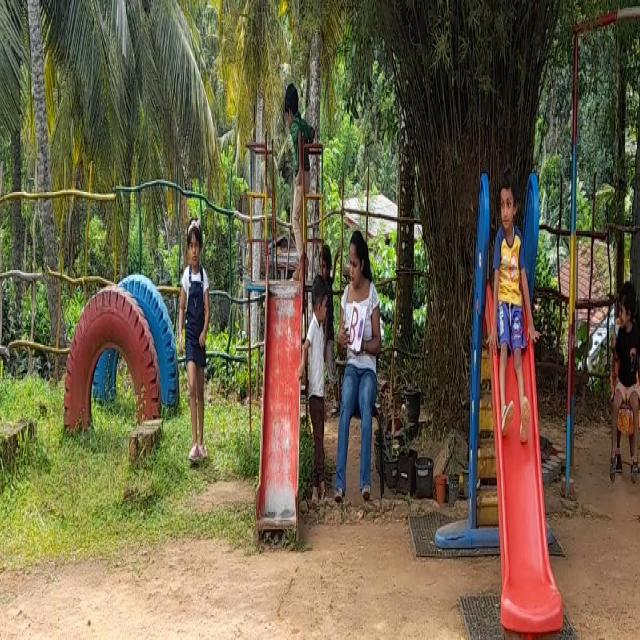adult: (335, 232, 376, 500)
child: (491, 169, 538, 441), (176, 209, 216, 464), (607, 278, 640, 490), (300, 263, 327, 511), (282, 76, 310, 262)
